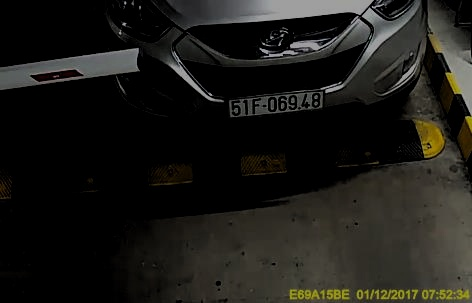plate: (225, 87, 330, 117)
